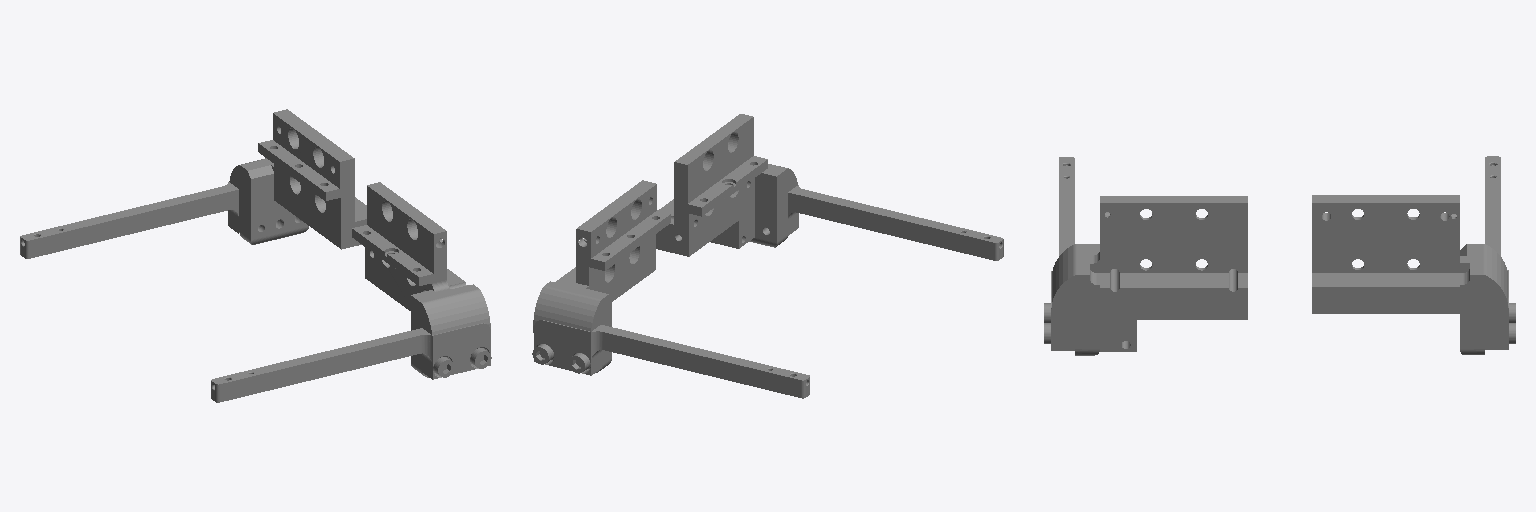
The robot description file, URDF, robot "PF3400SX Robot":
<robot name="PF3400SX Robot">

  <!-- Materials -->

  <material name="white">
    <color rgba="1 1 1 1"/>
  </material>

  <material name="aluminum">
    <color rgba="0.6 0.6 0.6 1"/>
  </material>

  <!-- Links -->
  <link name="base_link">
    <visual>
      <origin xyz="0.125 -0.0198 0" rpy="0 0 1.5708"/>
      <geometry>
        <mesh filename="package://pf400_description/meshes/base_link.STL" scale="1 1 1"/>
      </geometry>
      <material name="white"/>
    </visual>

  </link>
  <link name="rail">
    <visual>
      <origin xyz="0.1309 -0.0198 0.0320" rpy="1.5708 0 1.5708"/>
      <geometry>
        <mesh filename="package://pf400_description/meshes/rail.STL" scale="1 1 1"/>
      </geometry>
      <material name="white"/>
    </visual>
  </link>

  <link name="z_column">
    <visual>
      <origin xyz="0 0 0.074" rpy="0 0 0"/>
      <geometry>
        <mesh filename="package://pf400_description/meshes/PF3400_Z_Column.STL" scale="0.001 0.001 0.00132"/>
      </geometry>
      <material name="white"/>
    </visual>
  </link>

  <link name="z_carriage">
    <visual>
      <origin xyz="0 0 0.074" rpy="0 0 0"/>
      <geometry>
        <mesh filename="package://pf400_description/meshes/PF3400_Z_Carriage.STL" scale="0.001 0.001 0.001"/>
      </geometry>
      <material name="white"/>
    </visual>
  </link>

  <link name="inner_link">
    <visual>
      <origin xyz="0 0 0.074" rpy="0 0 0"/>
      <geometry>
        <mesh filename="package://pf400_description/meshes/PF3400_Inner_Link.STL" scale="0.001 0.001 0.001"/>
      </geometry>
      <material name="white"/>
    </visual>
  </link>

  <link name="outer_link">
    <visual>
      <origin xyz="0 0 0.074" rpy="0 0 0"/>
      <geometry>
        <mesh filename="package://pf400_description/meshes/PF3400_Outer_Link.STL" scale="0.001 0.001 0.001"/>
      </geometry>
      <material name="white"/>
    </visual>
  </link>

  <link name="hand">
    <visual>
      <origin xyz="0 0 0.074" rpy="0 0 0"/>
      <geometry>
        <mesh filename="package://pf400_description/meshes/PF3400_Hand.STL" scale="0.001 0.001 0.001"/>
      </geometry>
      <material name="white"/>
    </visual>
  </link>

  <link name="left_finger">
    <visual>
      <origin xyz="-0.02 -0.053 0.053" rpy="0 0 0"/>
      <geometry>
        <mesh filename="package://pf400_description/meshes/pf400_left_finger.STL" scale="0.001 0.001 0.001"/>
      </geometry>
      <material name="aluminum"/>
    </visual>
  </link>

  <link name="right_finger">
    <visual>
      <origin xyz="-0.021 -0.028 0.105" rpy="-1.5708 0 0"/>
      <geometry>
        <mesh filename="package://pf400_description/meshes/pf400_right_finger.STL" scale="0.001 0.001 0.001"/>
      </geometry>
      <material name="aluminum"/>
    </visual>
  </link>



  <!-- Joints -->

  <joint name="J1" type="prismatic">
    <parent link="z_column"/>
    <child link="z_carriage"/>
    <axis xyz="0 0 1"/>
    <origin xyz="0.03005 -0.0198 0.17535" rpy="0 0 0"/>
    <limit effort="1000.0" lower="0.002" upper="1.12" velocity="0.5"/>  </joint>

  <joint name="J2" type="revolute">
    <parent link="z_carriage"/>
    <child link="inner_link"/>
    <axis xyz="0 0 1"/>
    <origin xyz="0.173001 0.020 .0235" rpy="0 0 0"/>
    <limit effort="1000.0" lower="-1.62316" upper="1.62316" velocity="0.5"/>
  </joint>

  <joint name="J3" type="revolute">
    <parent link="inner_link"/>
    <child link="outer_link"/>
    <axis xyz="0 0 1"/>
    <origin xyz="0.302 0 -0.072285" rpy="0 0 0"/>
    <limit effort="1000.0" lower="0.20944" upper="6.07375" velocity="0.5"/>
  </joint>

  <joint name="J4" type="revolute">
    <parent link="outer_link"/>
    <child link="hand"/>
    <axis xyz="0 0 1"/>
    <origin xyz="0.289 0 -0.032942" rpy="0 0 0"/>
    <limit effort="1000.0" lower="-16.7552" upper="16.7552" velocity="0.5"/>
  </joint>

  <joint name="J5" type="prismatic">
    <parent link="hand"/>
    <child link="left_finger"/>
    <axis xyz="0 1 0"/>
    <origin xyz="0.078573 0 -0.04269" rpy="0 0 0"/>
    <limit effort="1000.0" lower="0.051954" upper="0.070" velocity="0.5"/>
  </joint>

  <joint name="J5_mirror" type="prismatic">
    <parent link="hand"/>
    <child link="right_finger"/>
    <axis xyz="0 -1 0"/>
    <origin xyz="0.078573 0 -0.04269" rpy="0 0 0"/>
    <limit effort="1000.0" lower="0.051954" upper="0.070" velocity="0.5"/>
    <mimic joint="J5" multiplier="1"/>
  </joint>

  <joint name="J6" type="prismatic">
    <parent link="base_link"/>
    <child link="rail"/>
    <axis xyz="1 0 0"/>
    <origin xyz="0 0 0" rpy="0 0 0"/>
    <limit effort="1000.0" lower="-1" upper="1" velocity="0.5"/>
  </joint>

  <joint name="rail_link" type="fixed">
    <parent link="rail"/>
    <child link="z_column"/>
    <axis xyz="0 1 0"/>
    <origin xyz="0.03005 -0.0198 0.05" rpy="0 0 0"/>
    <limit effort="1000.0" lower="0" upper="0" velocity="0.5"/>
  </joint>

</robot>

--- What the picture shows (computed from the rendered views, not written in the file) ---
3 views of the same robot in one strip: view 1: azimuth 30°, elevation 25°; view 2: azimuth 150°, elevation 25°; view 3: azimuth 270°, elevation 25° (orthographic).
Robot: PF3400SX Robot — 9 links, 8 joints (3 revolute, 4 prismatic, 1 fixed); root link base_link; default pose: joints at zero except 4 at the middle of their limits (J1 = 0.561, J3 = 3.14, J5 = 0.061, J5_mirror = 0.061).
Visible links, largest first — view 1: left_finger, right_finger; view 2: right_finger, left_finger; view 3: left_finger, right_finger.
Link boxes in pixels (x1,y1,x2,y2): left_finger: (211,182,491,402); right_finger: (20,109,366,258); right_finger: (532,180,809,398); left_finger: (656,114,1003,260); left_finger: (1044,157,1247,355); right_finger: (1312,156,1515,354).
Bounding box of the posed robot: 0.0958 × 0.1273 × 0.0438 m (x, y, z).
Meshes: 9 distinct files referenced, 2 mesh visuals loaded (2 binary STL); not drawn: 6 (reference not matched to a file when rendering), 1 (file found but could not be loaded).